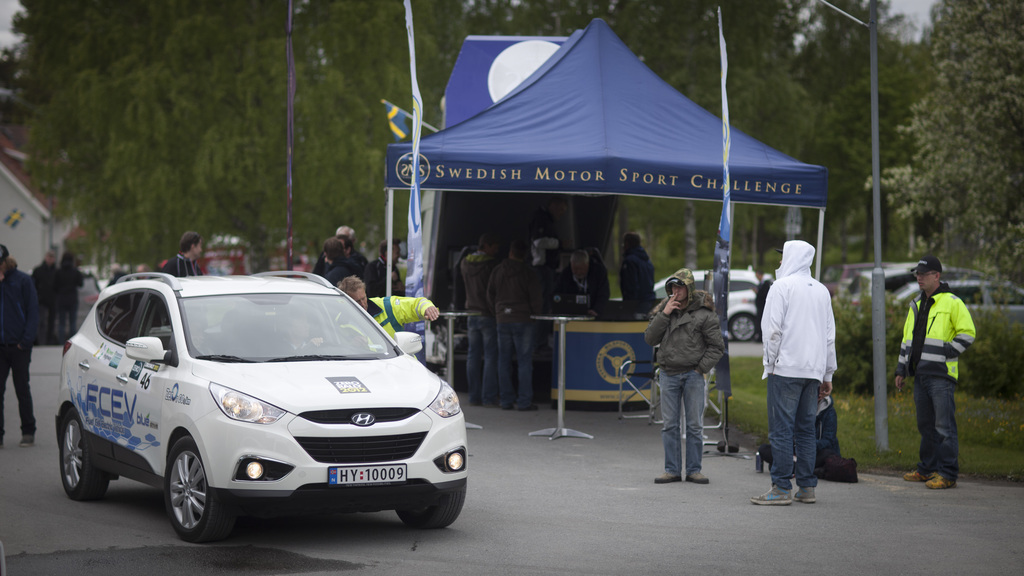Car: (55, 272, 469, 546), (825, 258, 1023, 310), (653, 264, 771, 343)
